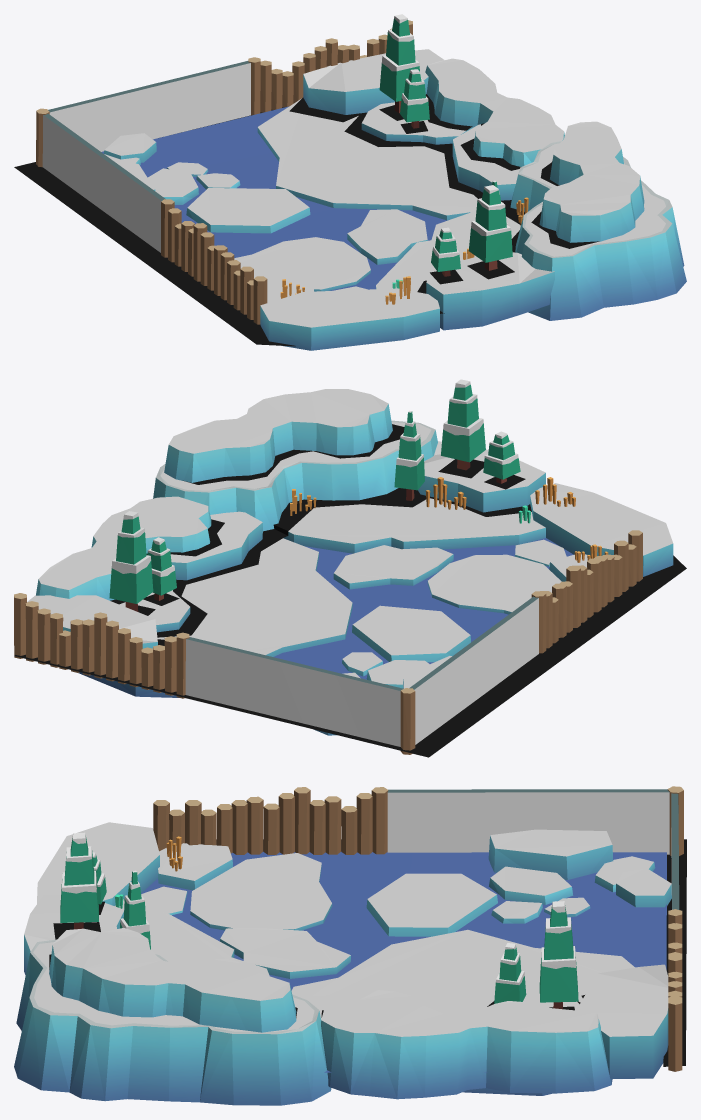
The model's file is xweilan_1022_3.FBX.
3 renders of one model, top to bottom at view 1: azimuth 30°, elevation 25°; view 2: azimuth 150°, elevation 25°; view 3: azimuth 270°, elevation 25°, orthographic. The views are drawn at different scales.
Parts seen in each view (by area): view 1: xweilan_1022_3; view 2: xweilan_1022_3; view 3: xweilan_1022_3.
Boxes of the visible parts, x1,y1,x2,y2 form: xweilan_1022_3: (14,14,686,350); xweilan_1022_3: (14,379,686,757); xweilan_1022_3: (14,786,686,1105).
Size of the model in its own units: 4582 by 1338 by 5226.
